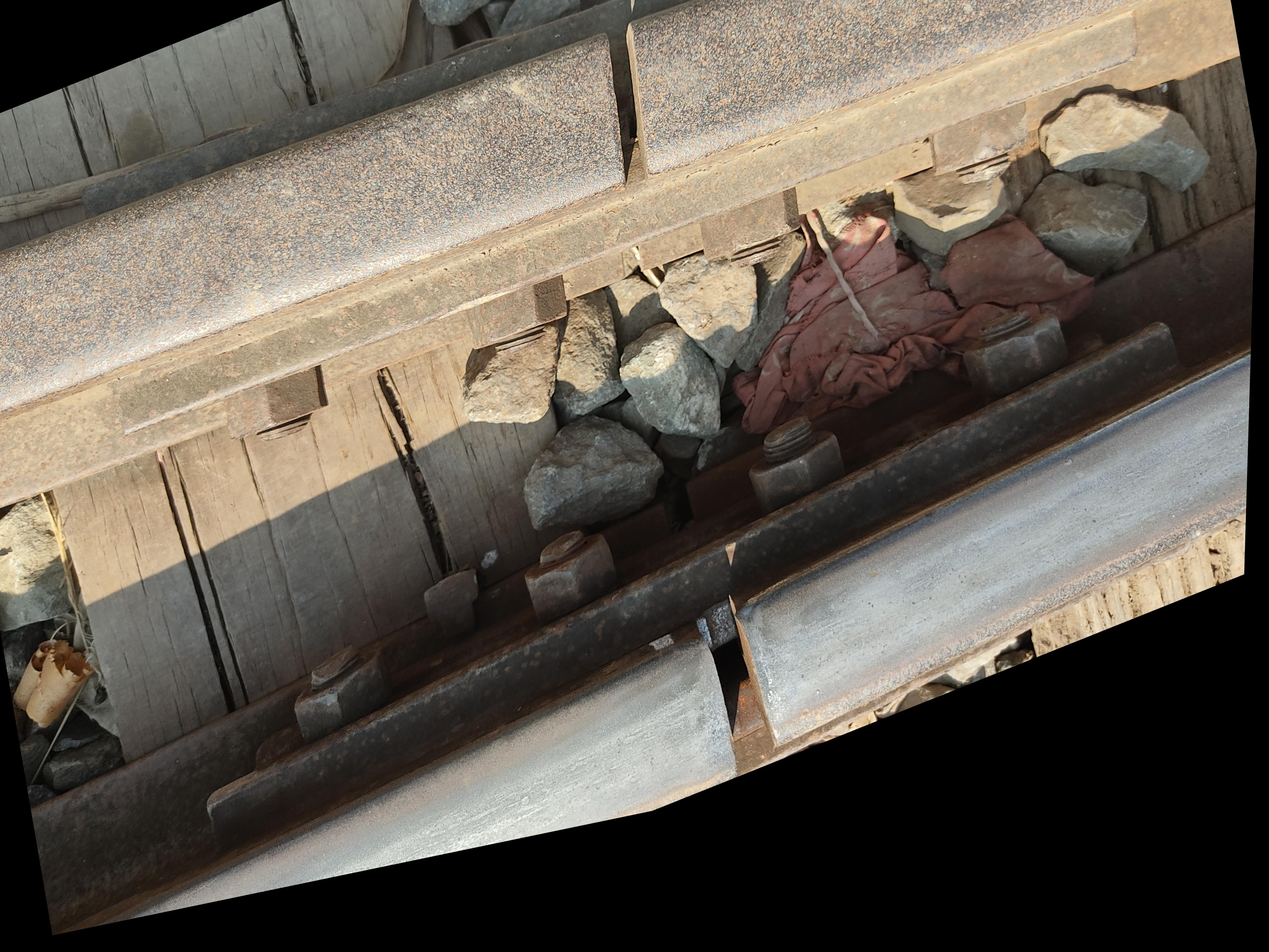person: (291, 495, 431, 665), (369, 801, 468, 888)
